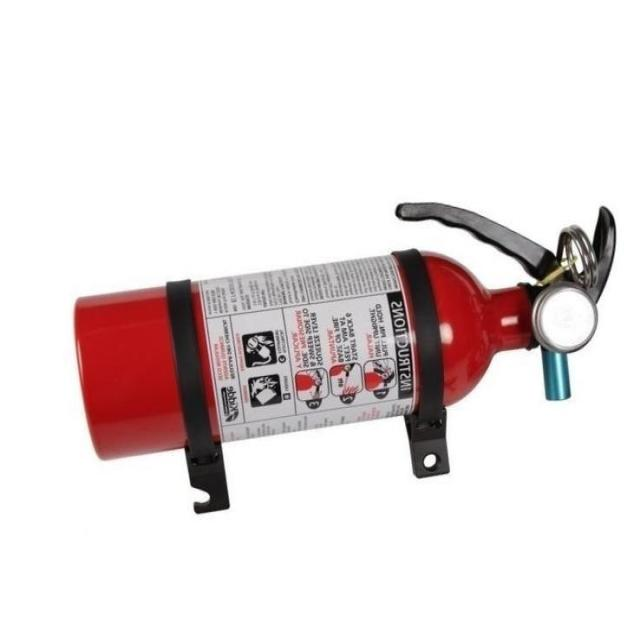fire_extinguisher: (71, 196, 621, 463)
